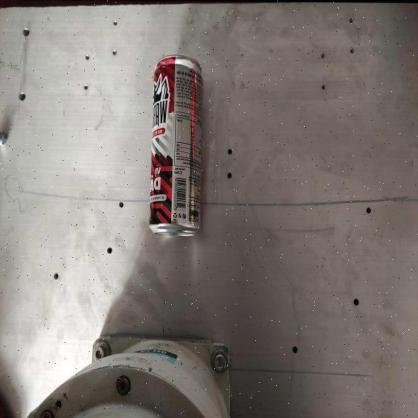can: (148, 53, 205, 240)
